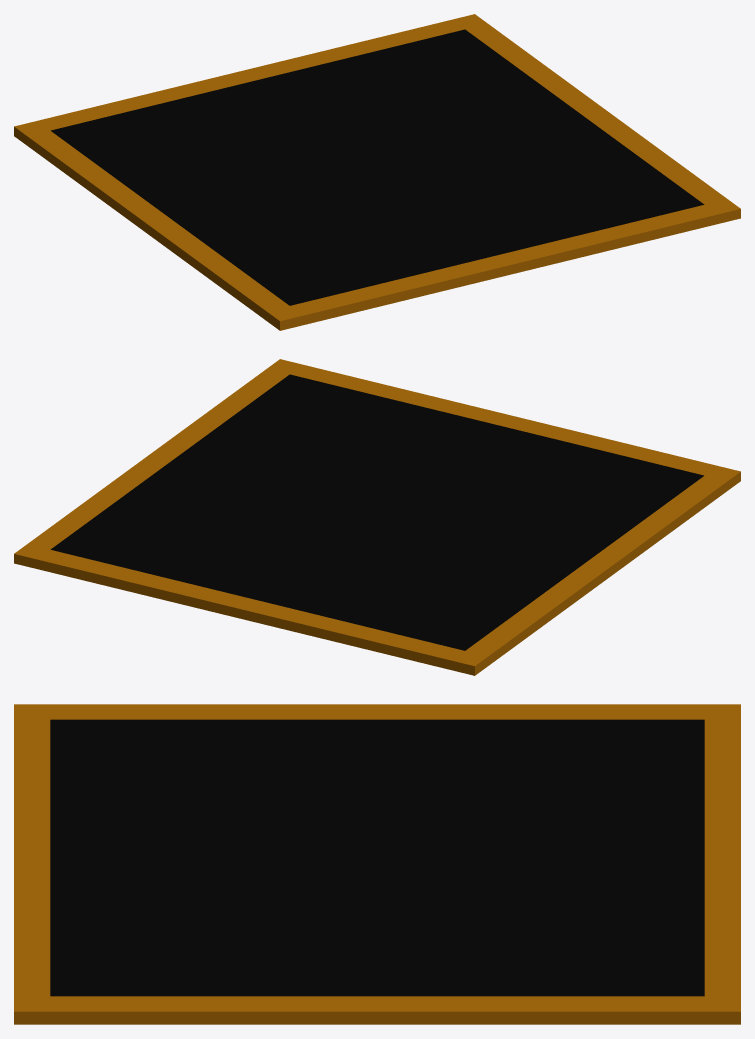
Rendered from floor.fbx.
3 views of the same model, one above another, from view 1: azimuth 30°, elevation 25°; view 2: azimuth 150°, elevation 25°; view 3: azimuth 270°, elevation 25° (orthographic). The views are drawn at different scales.
Visible parts, largest first — view 1: pCube1; view 2: pCube1; view 3: pCube1.
Boxes of the visible parts, <box> form: pCube1: <box>14,14,740,330</box>; pCube1: <box>14,359,740,675</box>; pCube1: <box>14,704,740,1024</box>.
Size of the model in its own units: 5 by 0.1 by 5.
